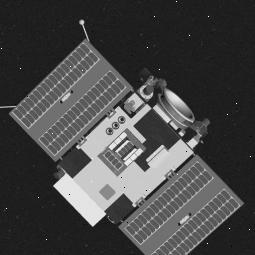proba_2: (12, 37, 244, 247)
